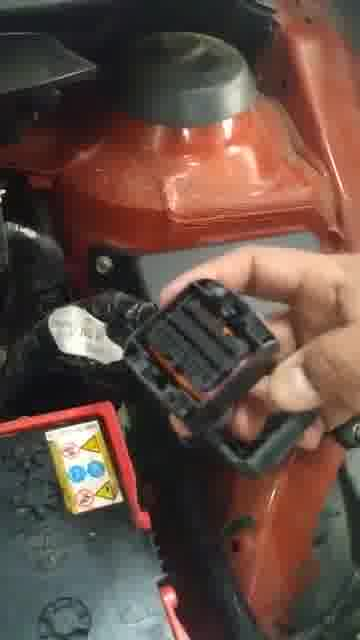connector: (122, 279, 278, 424)
